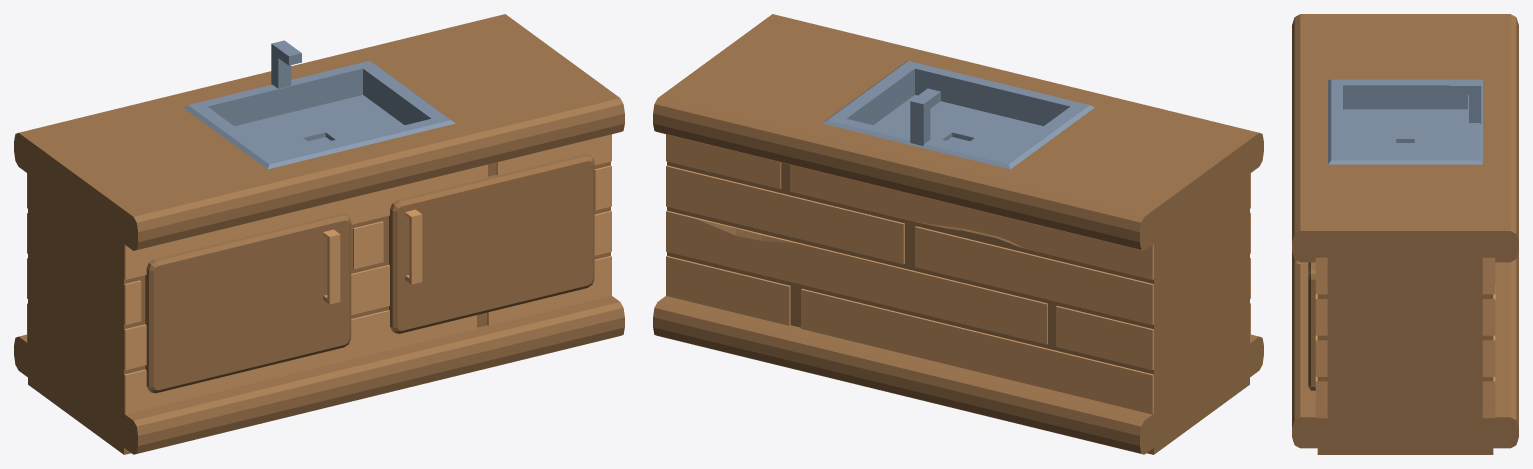
File: Counter_Sink.fbx
3 views of the same model, side by side, from view 1: azimuth 30°, elevation 25°; view 2: azimuth 150°, elevation 25°; view 3: azimuth 270°, elevation 25° (orthographic). The views are drawn at different scales.
Parts seen in each view (by area): view 1: Environment_Counter_Sink; view 2: Environment_Counter_Sink; view 3: Environment_Counter_Sink.
Part boxes in pixels (x1,y1,x2,y2): Environment_Counter_Sink: (14,14,624,454); Environment_Counter_Sink: (653,14,1263,454); Environment_Counter_Sink: (1292,14,1518,454).
Bounding box in the file's own units: 400 × 226 × 177.
